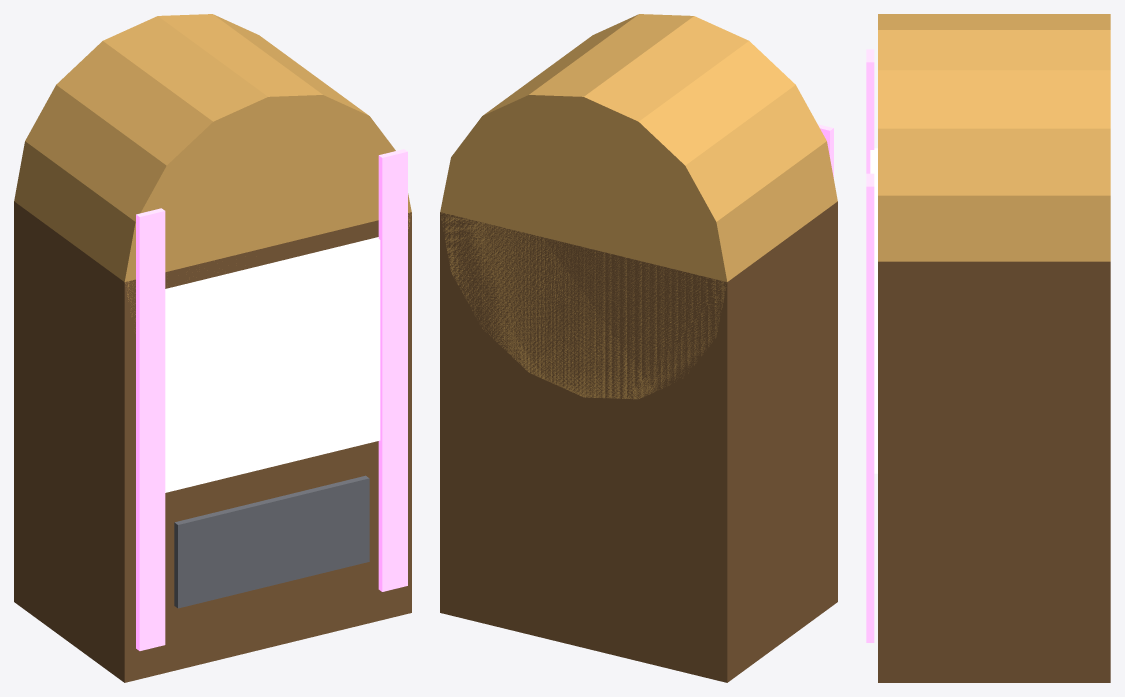
File: diner_jukebox.glb
3 renders of one model, left to right at view 1: azimuth 30°, elevation 25°; view 2: azimuth 150°, elevation 25°; view 3: azimuth 270°, elevation 25°, orthographic. The views are drawn at different scales.
Visible parts, largest first — view 1: diner_jukebox; view 2: diner_jukebox; view 3: diner_jukebox.
Part boxes in pixels (left/top/right/bottom): diner_jukebox: left=14, top=14, right=411, bottom=682; diner_jukebox: left=440, top=14, right=837, bottom=682; diner_jukebox: left=866, top=14, right=1110, bottom=682.
Size of the model in its own units: 0.9 by 1.65 by 0.63.
